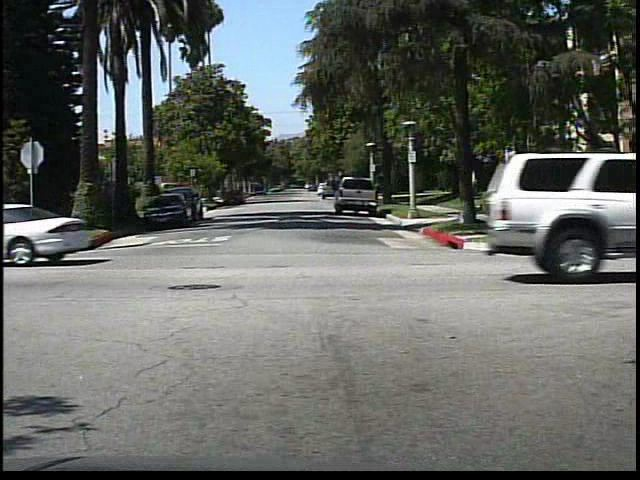person: (554, 167, 584, 237)
